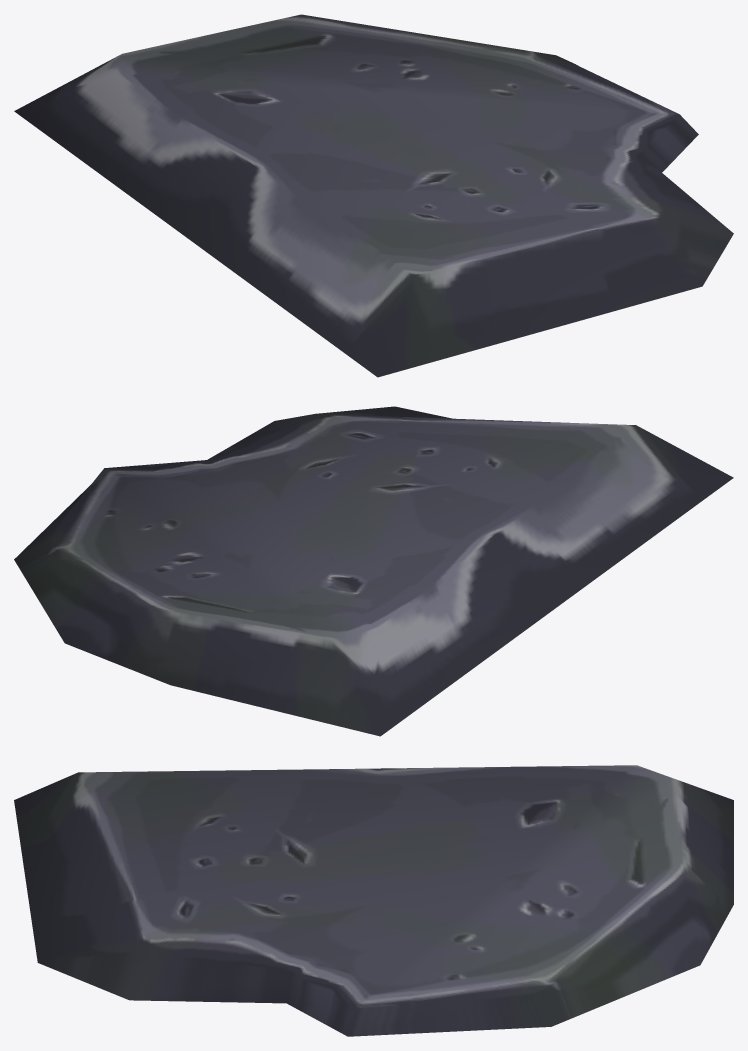
The model's file is MOD_Floor_01_O_singlestone_broken_1.fbx.
3 views of the same model, one above another, from view 1: azimuth 30°, elevation 25°; view 2: azimuth 150°, elevation 25°; view 3: azimuth 270°, elevation 25° (orthographic). The views are drawn at different scales.
Visible parts, largest first — view 1: MOD_Floor_01_O_singlestone_broken_1; view 2: MOD_Floor_01_O_singlestone_broken_1; view 3: MOD_Floor_01_O_singlestone_broken_1.
Boxes of the visible parts, x1,y1,x2,y2 form: MOD_Floor_01_O_singlestone_broken_1: (14,14,733,377); MOD_Floor_01_O_singlestone_broken_1: (14,406,733,736); MOD_Floor_01_O_singlestone_broken_1: (14,765,733,1036).
Size of the model in its own units: 77.76 by 9.3 by 100.
